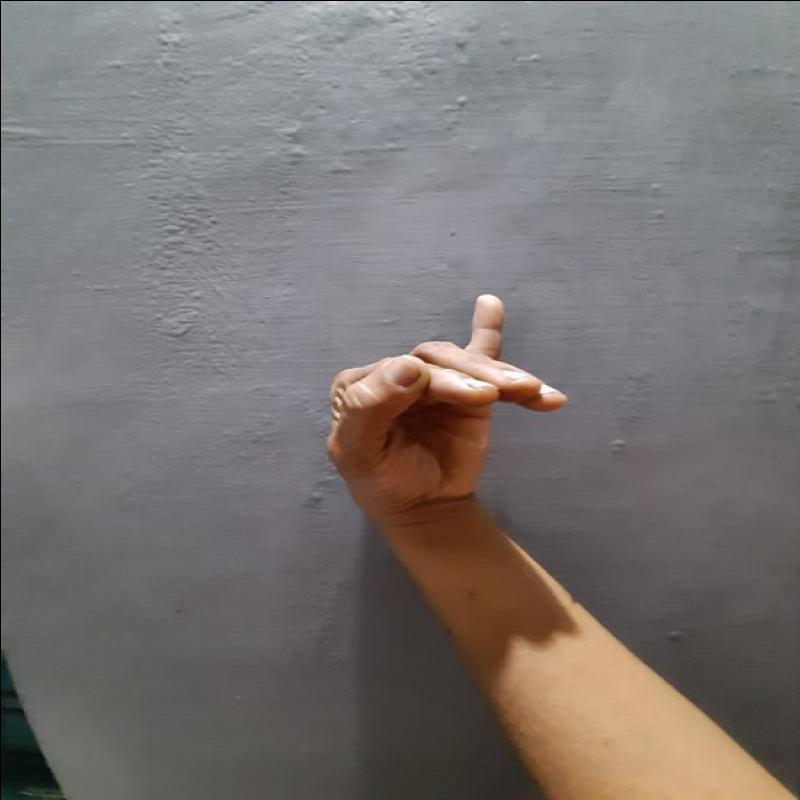Kartharee Mukham: (312, 290, 578, 515)
